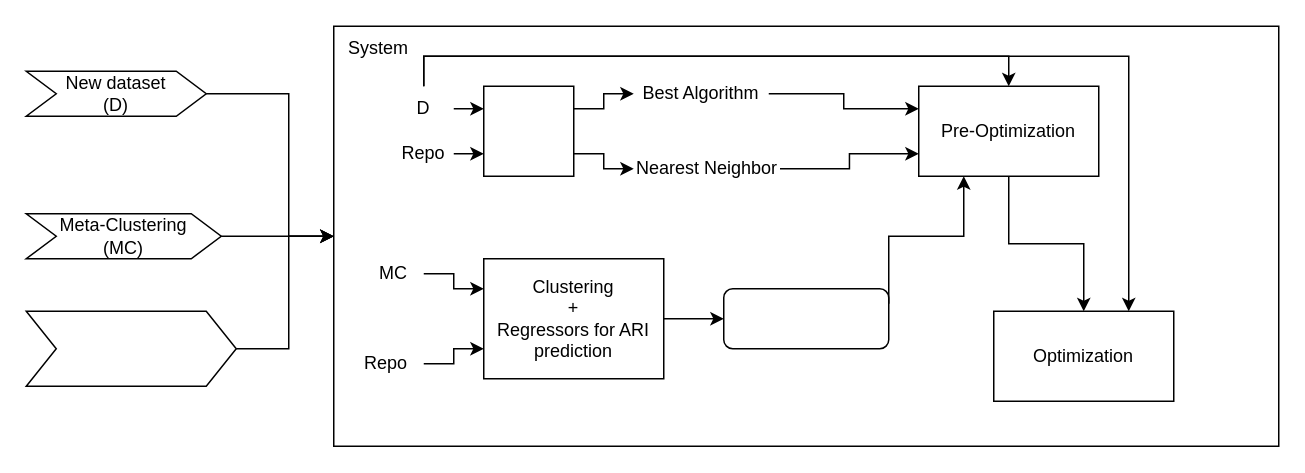
Some shapes in this 1305 by 473 pixel diagram are drawn without their labels. Here are the shapes that lost their labels. From the top down, the centre of each, then its label:
At (x=528, y=130): "K-nn, Siamese Net etc".
At (x=805, y=318): "Regressors [Reg1,...,Regk]".
At (x=130, y=348): "Meta-Knowldegde Repository (Repo)".
